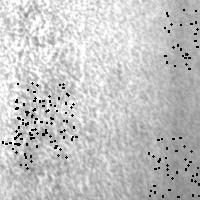pitted_surface: (1, 1, 148, 198), (15, 82, 75, 138), (12, 100, 70, 156), (148, 137, 200, 196), (164, 9, 200, 68), (0, 114, 32, 168)
